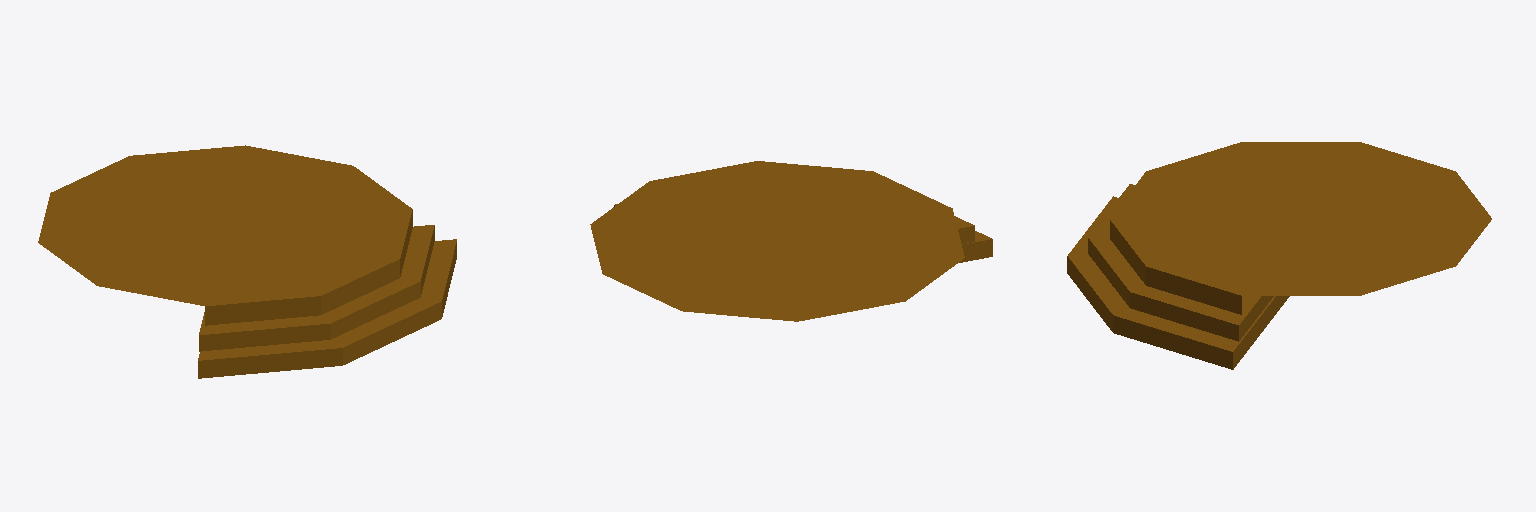
The model's file is kiosque_2.obj.
The picture shows the model from 3 angles: view 1: azimuth 30°, elevation 25°; view 2: azimuth 150°, elevation 25°; view 3: azimuth 270°, elevation 25°; orthographic projection.
Bounding box in the file's own units: 7.31 × 1.07 × 7.56.